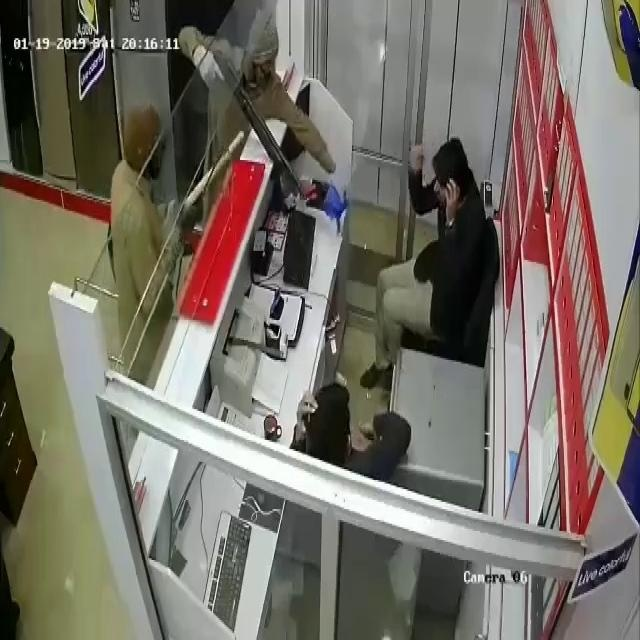gun: (211, 43, 303, 201), (176, 129, 244, 224)
